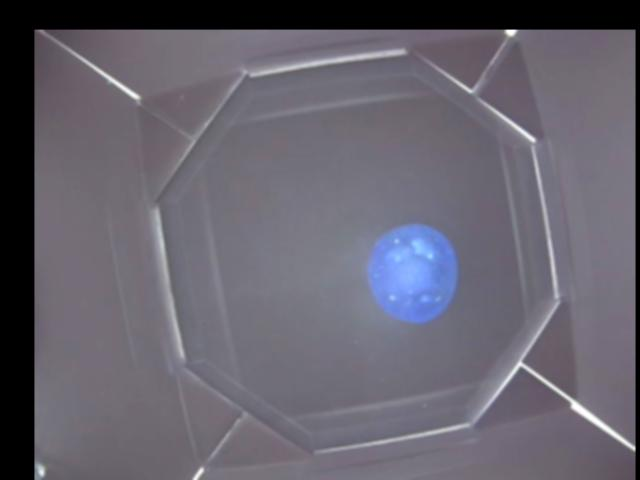Potato: (365, 221, 458, 323)
